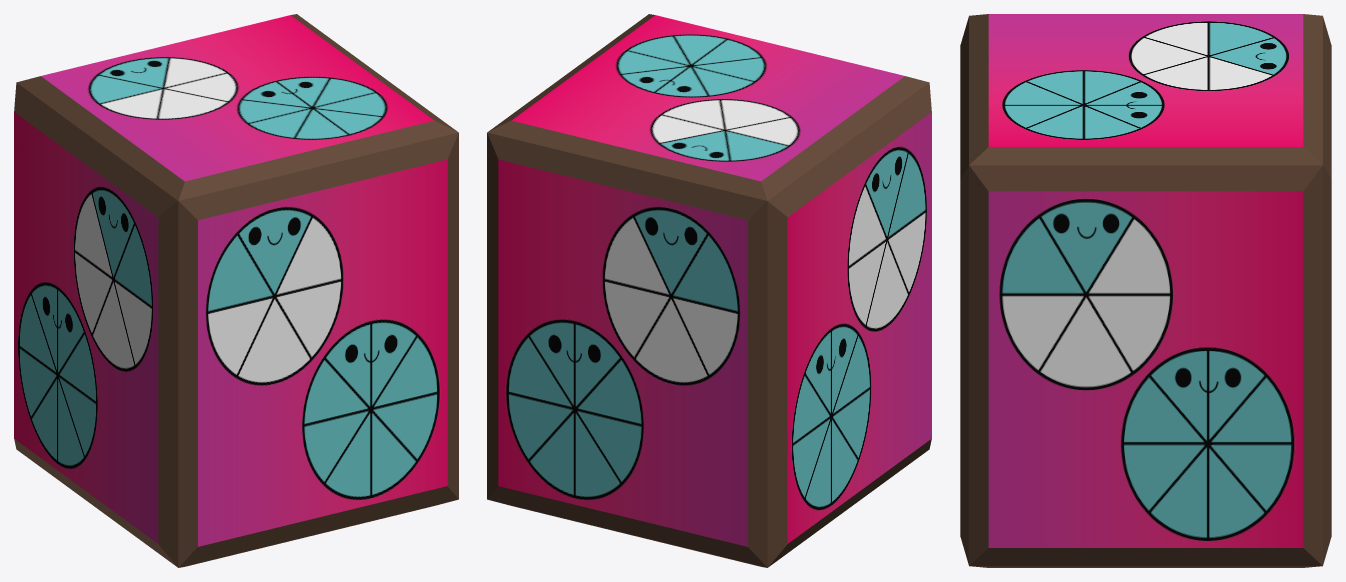
File: Fracciones diez octavos.fbx
The picture shows the model from 3 angles, left to right: view 1: azimuth 30°, elevation 25°; view 2: azimuth 150°, elevation 25°; view 3: azimuth 270°, elevation 25°; orthographic projection. The views are drawn at different scales.
Parts seen in each view (by area): view 1: 10/8; view 2: 10/8; view 3: 10/8.
Boxes of the visible parts, bbox=[...] form: 10/8: bbox=[14, 14, 458, 567]; 10/8: bbox=[487, 14, 931, 567]; 10/8: bbox=[960, 14, 1331, 567].
Size of the model in its own units: 213 by 263 by 210.
2 materials, 1 textured.
